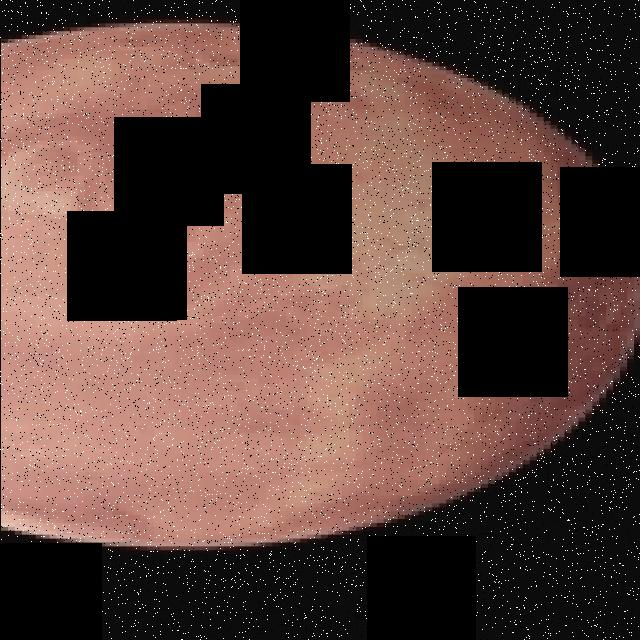Mars: (0, 23, 640, 550)
